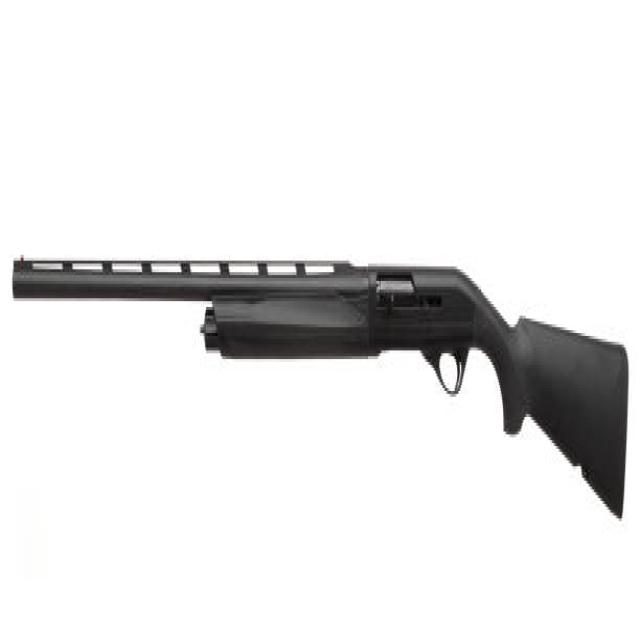rifle: (11, 250, 637, 539)
